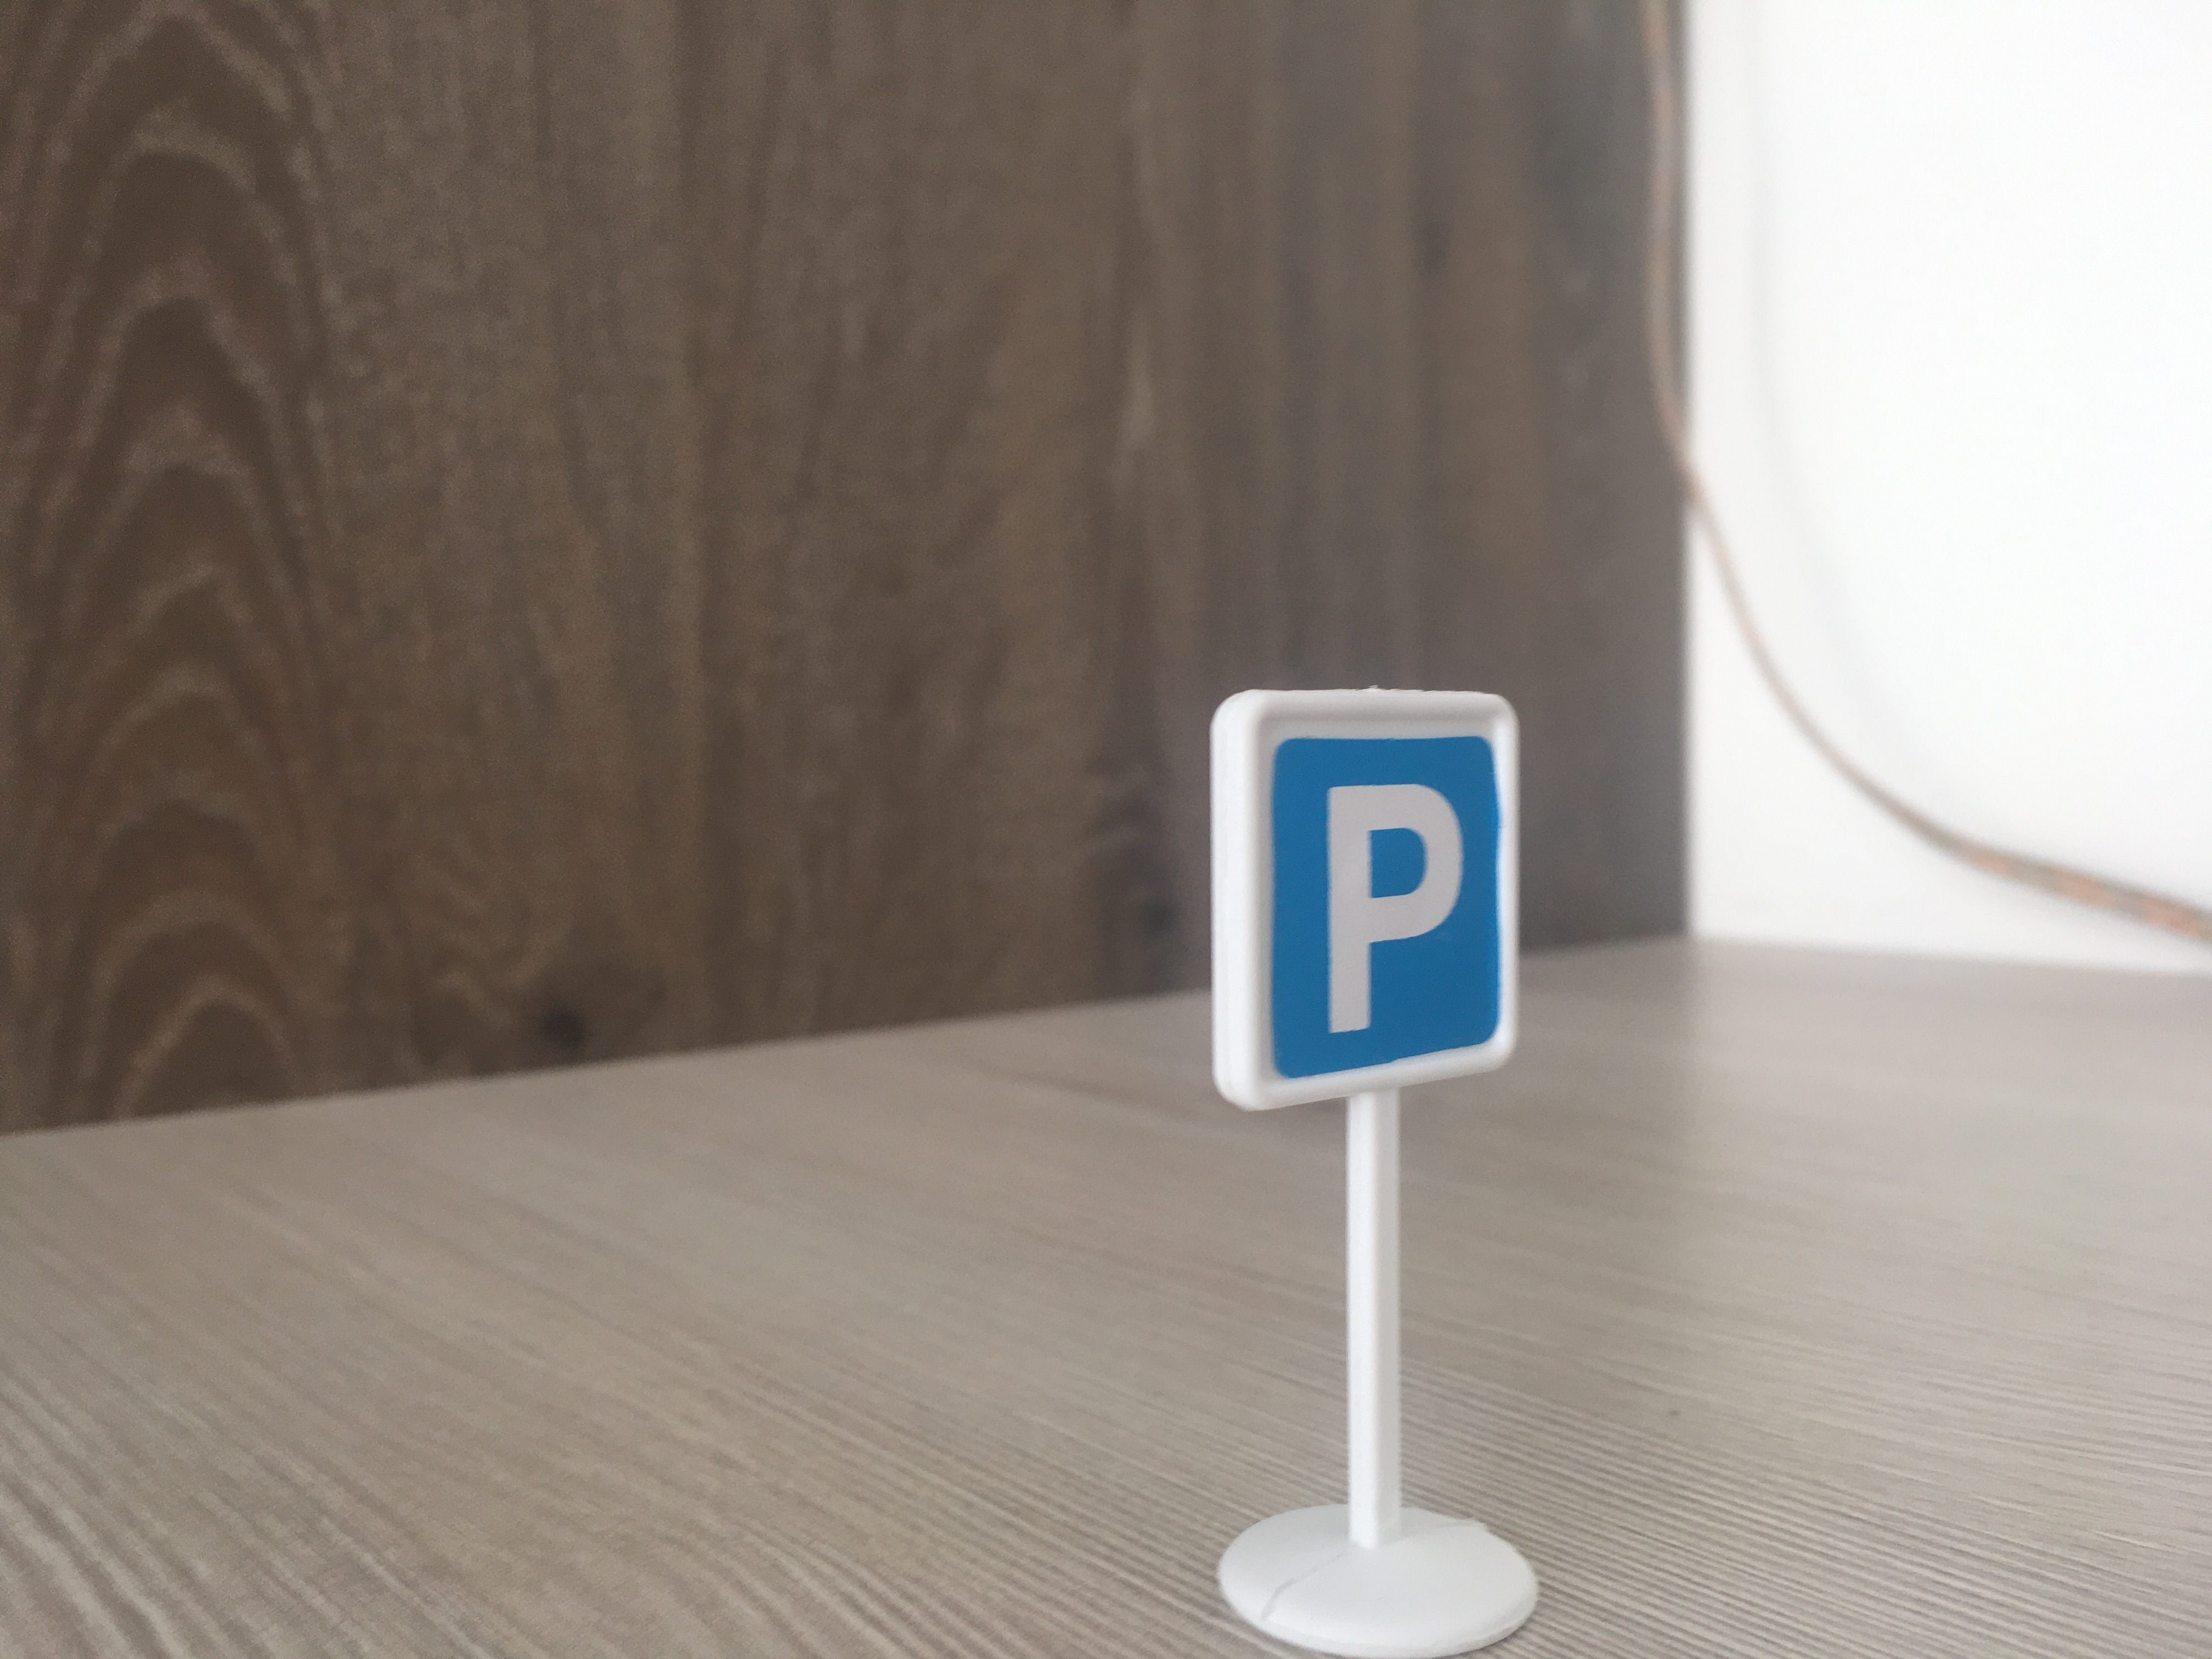parking: (1200, 687, 1524, 1110)
